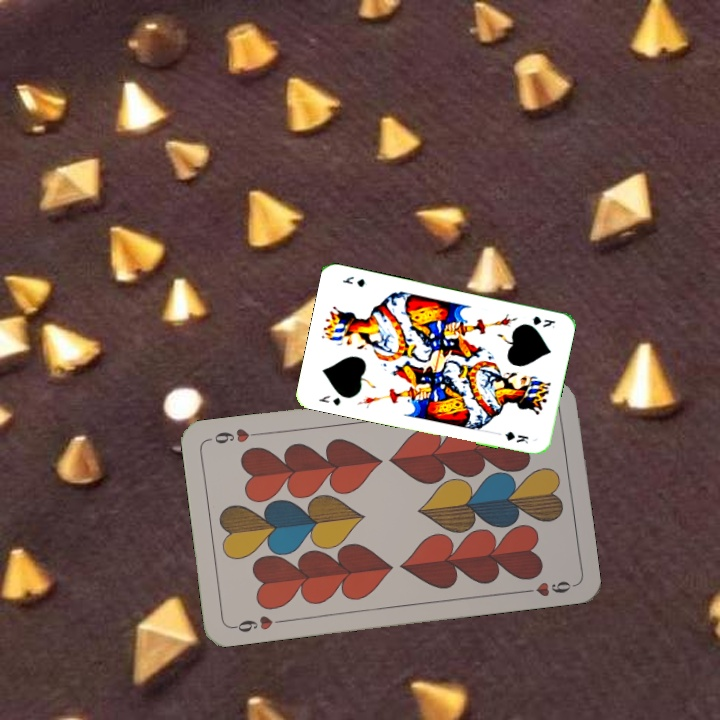GK: (529, 312, 557, 330), (315, 391, 343, 408)
H9: (228, 611, 287, 635)
